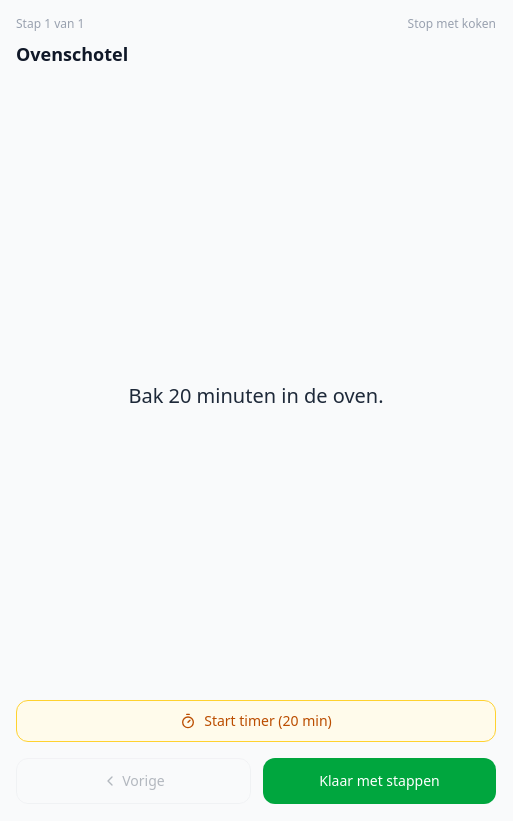
Test: CookingMode › shows a meanwhile suggestion while a timer is running, with its own prev/next
Expected: the text "Stap 1 van 1" is shown, [16, 16, 84, 32]
Expected: the text "Ondertussen" is not shown
What coordinates should you click on to do the following:
click the button "Start timer (20 min)"
I would click on:
 (256, 721)
Its box is [16, 700, 496, 742].
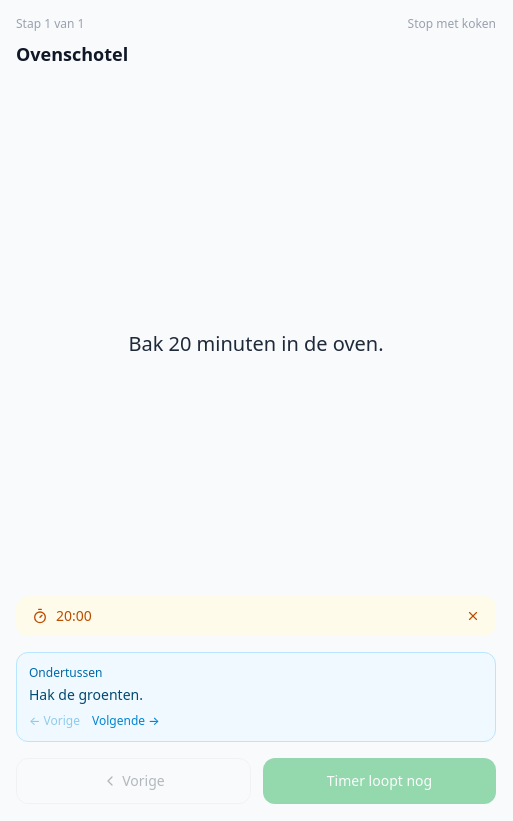
Result: the text "Ondertussen" is shown at [29, 664, 102, 681]
Result: the text "Hak de groenten." is shown at [29, 685, 143, 704]
What coordinates should you click on to do the following:
click the button "Volgende →"
I would click on:
 (126, 721)
Its box is [92, 713, 160, 729].
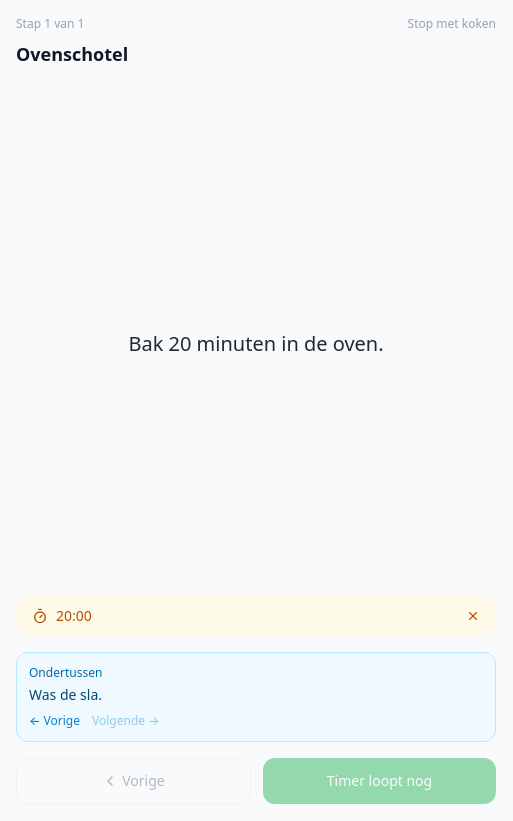
Result: the text "Was de sla." is shown at [29, 685, 102, 704]
